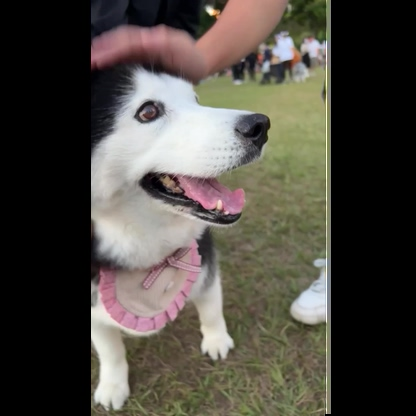husky: (93, 53, 274, 413)
